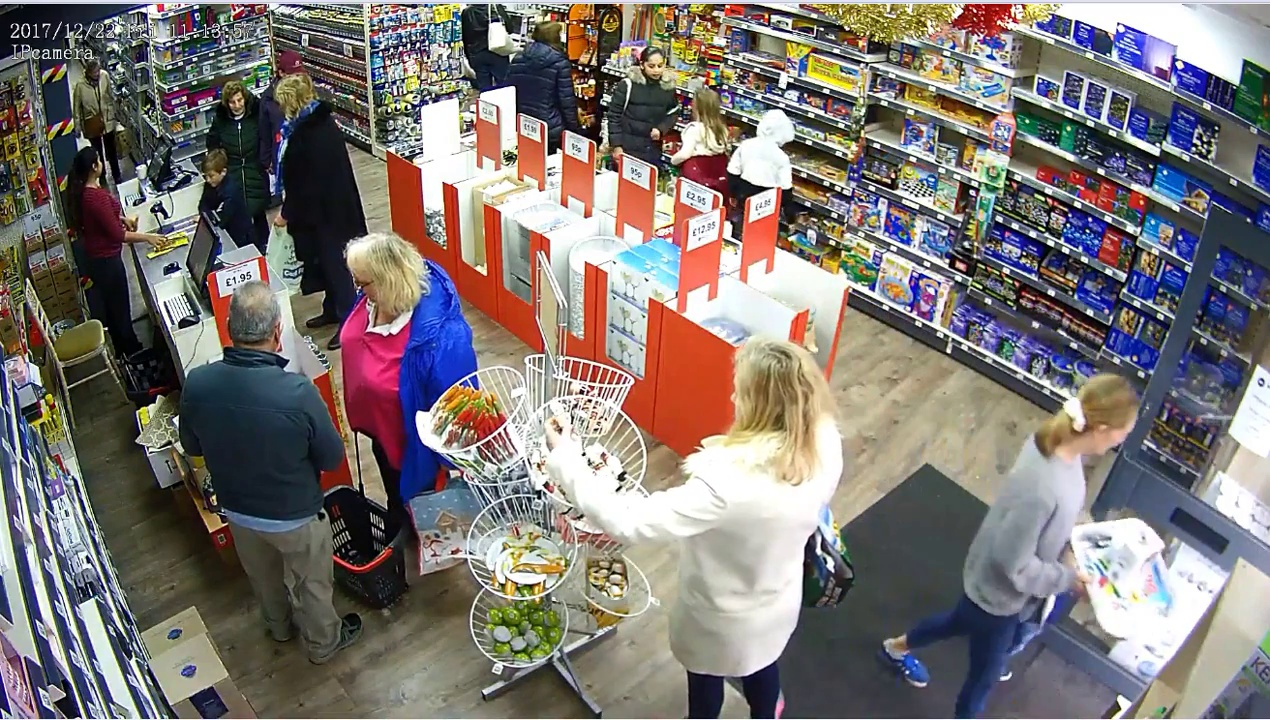face: (221, 91, 253, 115), (641, 55, 667, 83), (203, 163, 222, 189)
